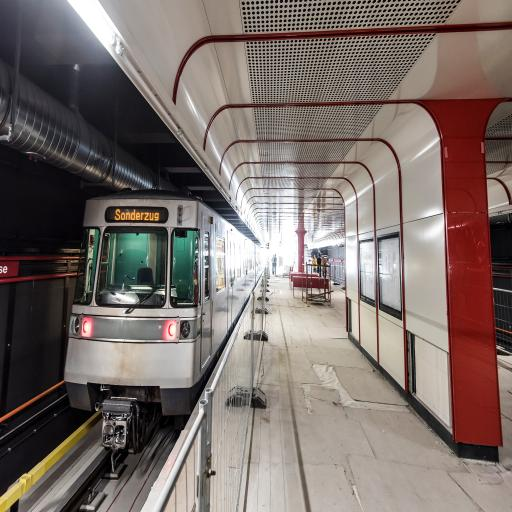Silberpfeil: (60, 186, 266, 416)
